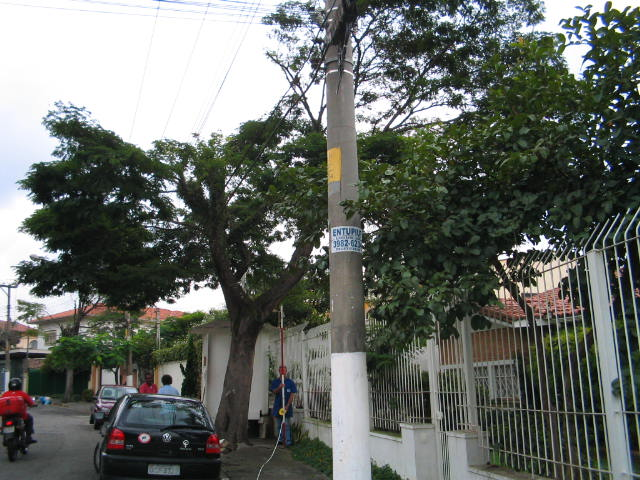crown: (16, 101, 327, 323)
stem: (210, 306, 266, 445)
stick: (276, 304, 288, 447)
tree: (14, 99, 328, 446)
